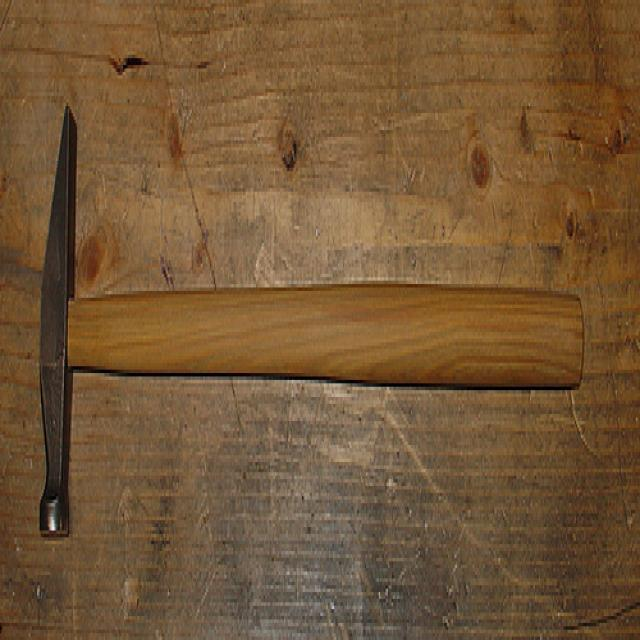hammer: (28, 81, 591, 564)
